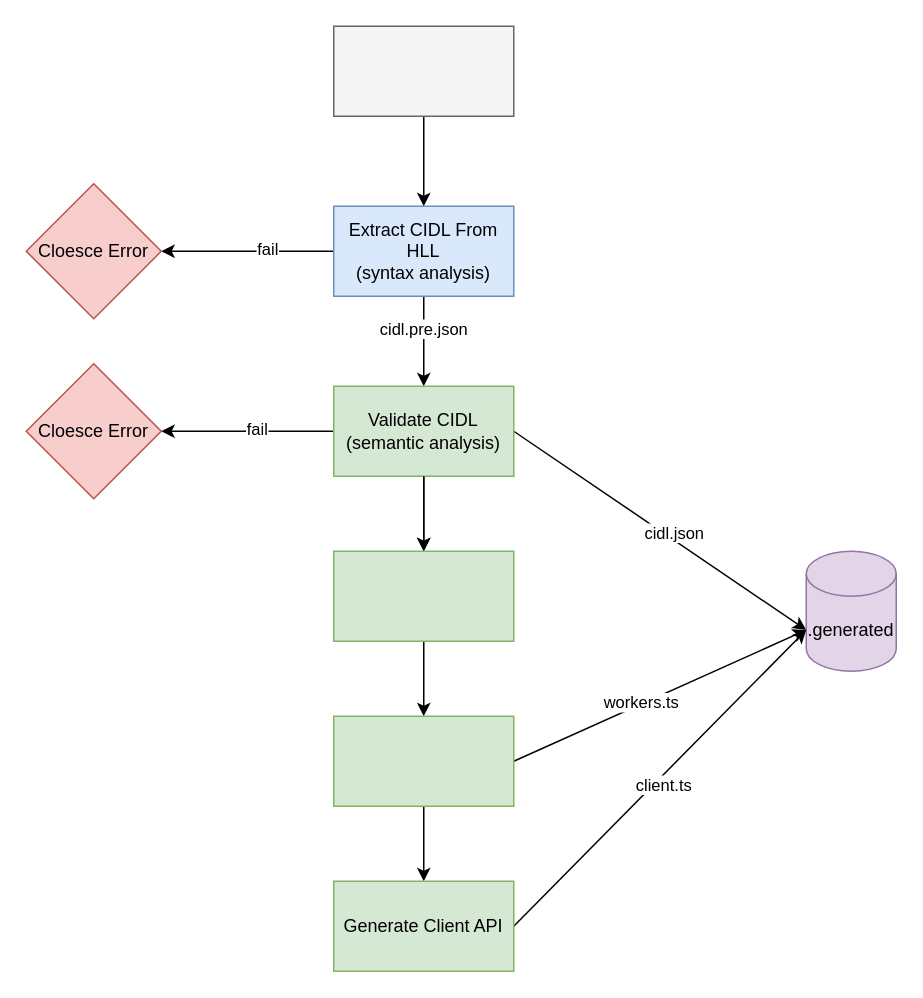
Some shapes in this 923 by 998 pixel diagram are drawn without their labels. Each missing label, with the centre of its shape:
"Augment Wrangler File" belongs at [423,595].
"Generate Workers Entrypoint" belongs at [423,760].
"Invoke `cloesce compile`" belongs at [423,70].
